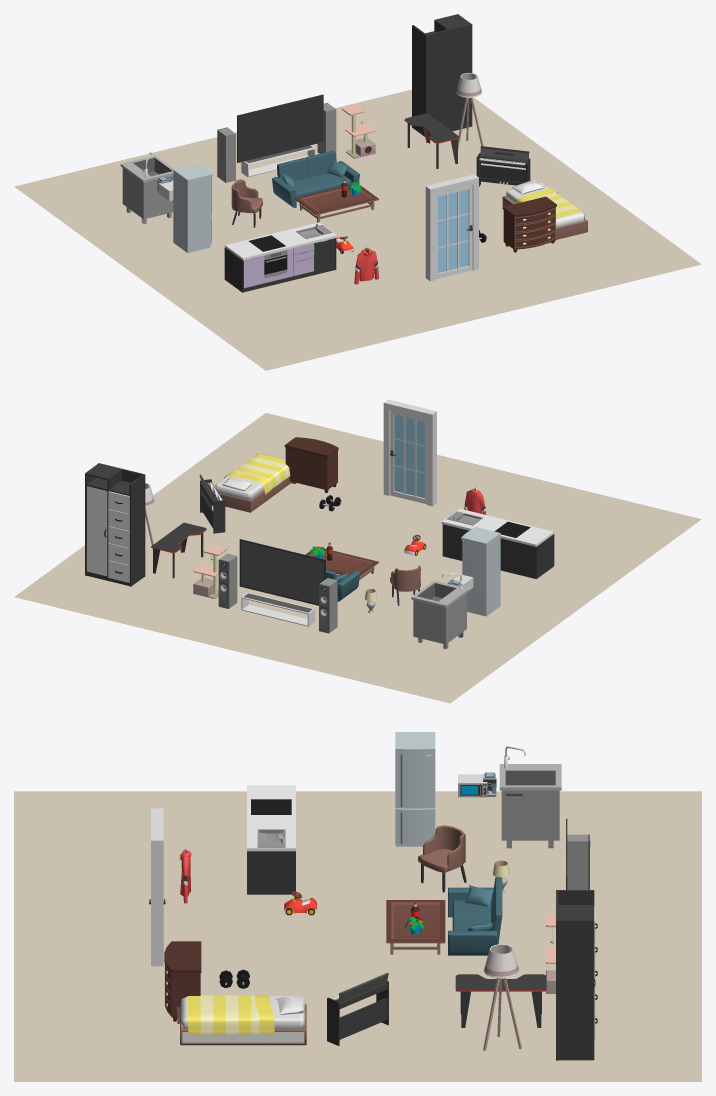
The model's file is office_level.glb.
3 renders of one model, top to bottom at view 1: azimuth 30°, elevation 25°; view 2: azimuth 150°, elevation 25°; view 3: azimuth 270°, elevation 25°, orthographic. The views are drawn at different scales.
Parts seen in each view (by area): view 1: Floor, tv_wall_001, closet_001, kitchen_table_001, fridge_001, door_001, sofa_001, kitchen_sink_001, dresser_001, door_frame_001, bed_001, musical_instrument_001 (+6 smaller); view 2: Floor, tv_wall_001, closet_001, kitchen_table_001, door_001, kitchen_sink_001, fridge_001, bed_001, dresser_001, door_frame_001, office_table_001, musical_instrument_001 (+4 smaller); view 3: Floor, closet_001, bed_001, kitchen_table_001, kitchen_sink_001, fridge_001, sofa_001, musical_instrument_001, coffee_table_001, dresser_001, door_frame_001, office_table_001 (+6 smaller).
Part boxes in pixels (x1,y1,x2,y2): Floor: [14, 89, 701, 370]; tv_wall_001: [217, 94, 336, 182]; closet_001: [412, 14, 472, 136]; kitchen_table_001: [224, 222, 337, 292]; fridge_001: [173, 163, 212, 252]; door_001: [436, 185, 472, 278]; sofa_001: [272, 150, 359, 207]; kitchen_sink_001: [120, 151, 173, 223]; dresser_001: [502, 196, 556, 252]; door_frame_001: [425, 174, 478, 281]; bed_001: [502, 179, 587, 239]; musical_instrument_001: [476, 146, 530, 186]; Floor: [14, 413, 701, 703]; tv_wall_001: [218, 539, 337, 633]; closet_001: [85, 463, 145, 586]; kitchen_table_001: [441, 508, 554, 578]; door_001: [390, 410, 426, 504]; kitchen_sink_001: [411, 573, 468, 648]; fridge_001: [461, 527, 500, 616]; bed_001: [215, 453, 291, 512]; dresser_001: [284, 437, 338, 492]; door_frame_001: [383, 399, 436, 506]; office_table_001: [151, 522, 206, 578]; musical_instrument_001: [199, 474, 225, 533]; Floor: [14, 791, 701, 1081]; closet_001: [556, 890, 597, 1060]; bed_001: [180, 995, 306, 1045]; kitchen_table_001: [247, 785, 295, 894]; kitchen_sink_001: [499, 746, 561, 848]; fridge_001: [395, 732, 435, 846]; sofa_001: [448, 877, 502, 955]; musical_instrument_001: [327, 973, 388, 1045]; coffee_table_001: [386, 900, 445, 954]; dresser_001: [164, 941, 201, 1021]; door_frame_001: [151, 808, 163, 966]; office_table_001: [455, 974, 546, 1027].
Size of the model in its own units: 12 by 2.7 by 12.
Materials: 2 (1 with a texture image).
